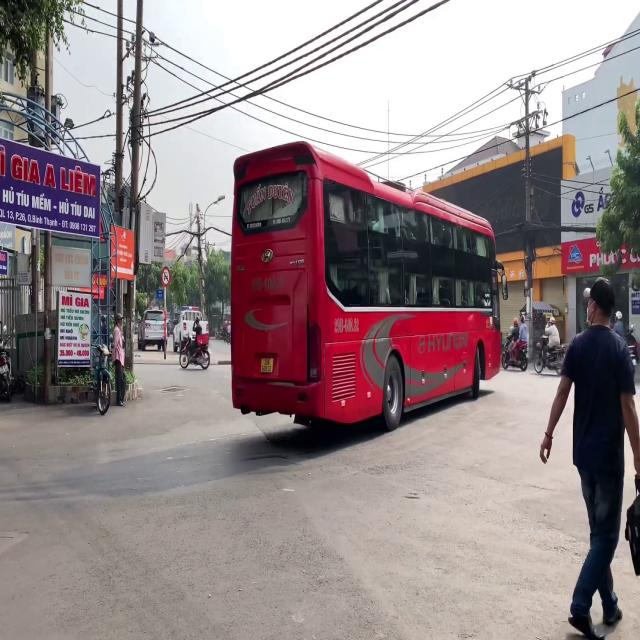bien_vang: (260, 355, 274, 375)
